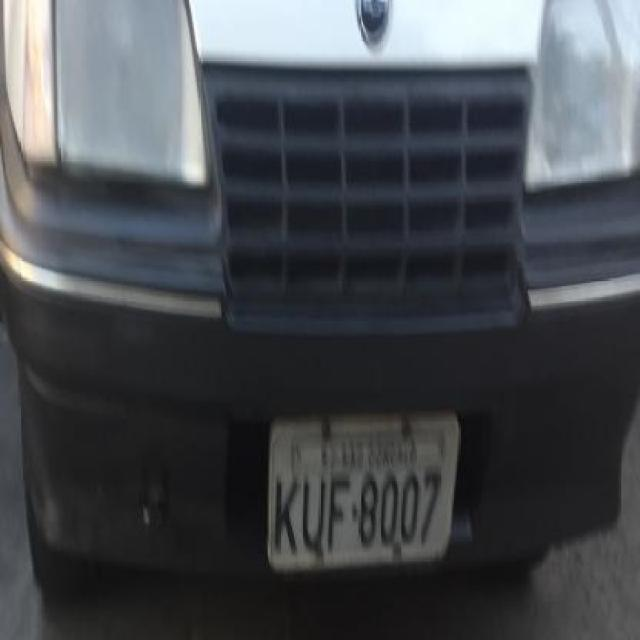old_plate: (260, 403, 465, 580)
